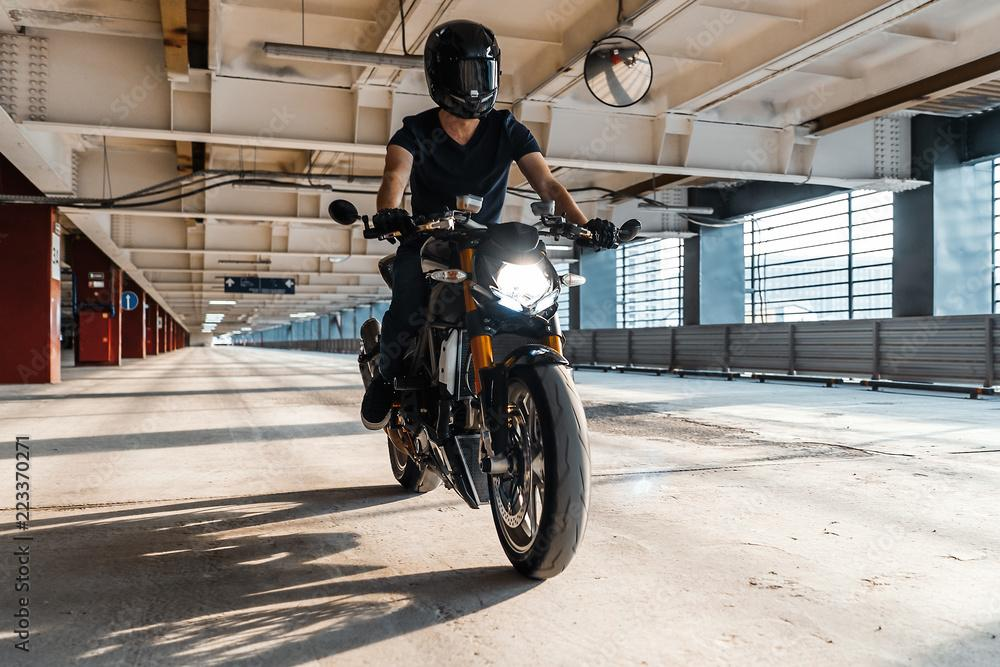helmet: (422, 18, 503, 120)
